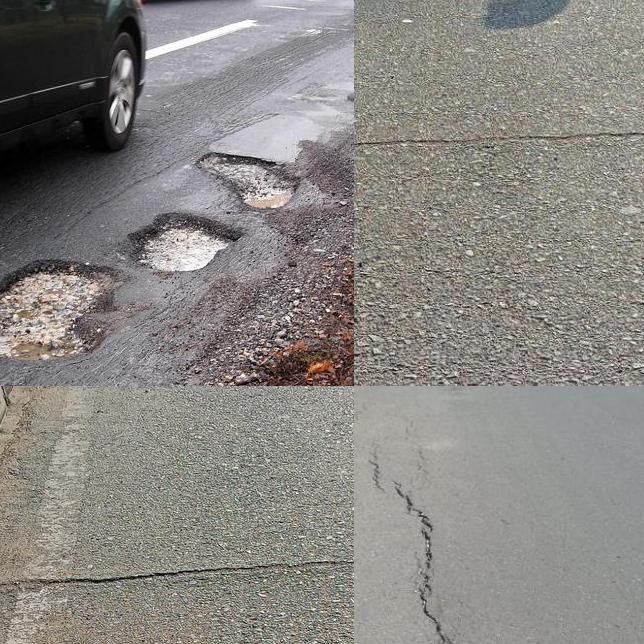Lubang: (0, 264, 117, 364), (192, 154, 308, 208), (138, 219, 238, 267)
Melintang: (0, 543, 354, 608), (354, 115, 644, 160)
Memanjang: (364, 457, 459, 644)
